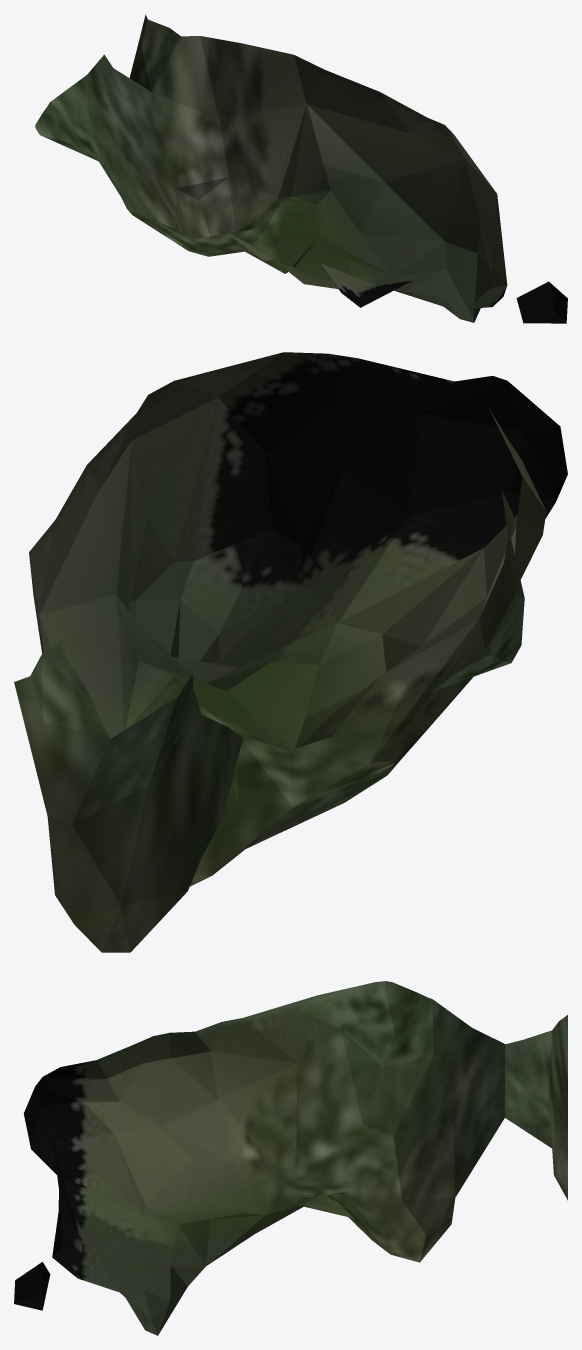
3 views of the same model, one above another, from view 1: azimuth 30°, elevation 25°; view 2: azimuth 150°, elevation 25°; view 3: azimuth 270°, elevation 25° (orthographic). The views are drawn at different scales.
Bounding box in the file's own units: 2.51 × 1.29 × 3.35.
1 material, 1 textured.
